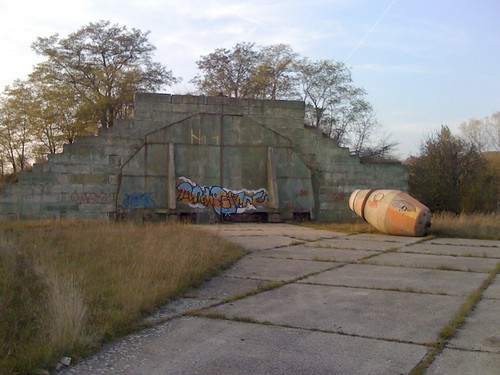building: (9, 93, 408, 226)
grass: (1, 215, 221, 375)
sky: (1, 1, 496, 139)
tree: (1, 24, 160, 162), (211, 44, 376, 151), (410, 122, 500, 223)
